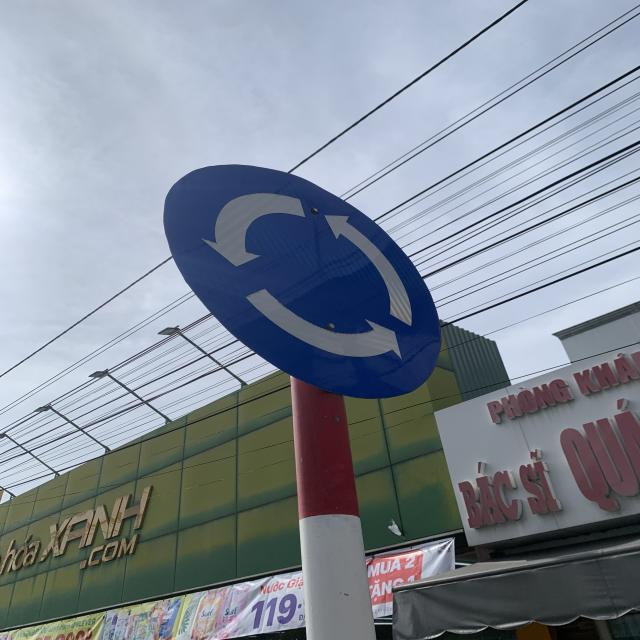Xe_Bus: (164, 164, 442, 401)
